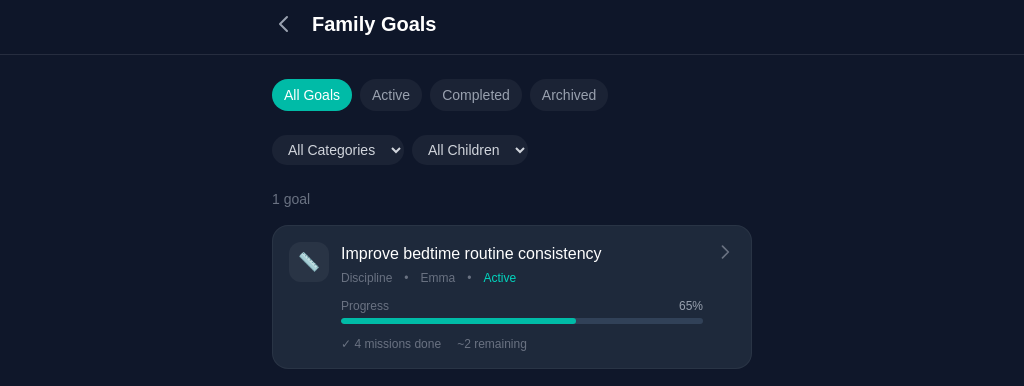
Scenario: Family Section › GoalsPage - Goals Overview › filtering works › shows "Clear filters" when no results match filters
Click on "Completed" filter
Click the button "Completed" at {"x": 476, "y": 95}, box [430,79,522,111]
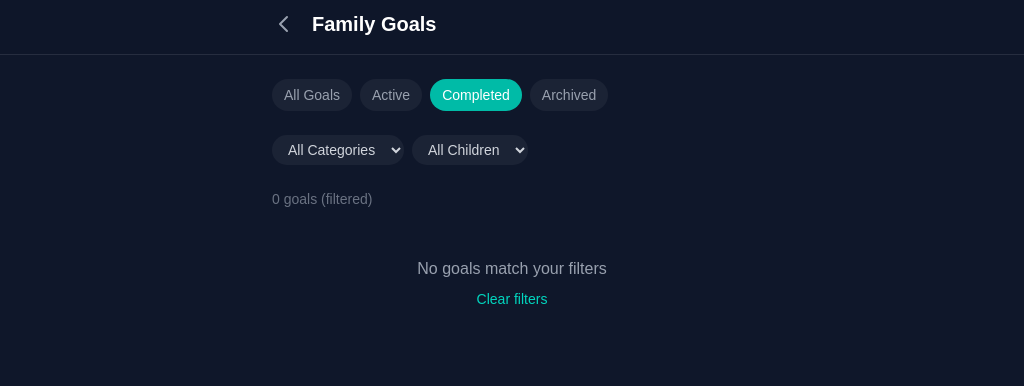
Check: the text "No goals match your filters" is shown, box [417,260,607,277]
Check: the button "Clear filters" is shown, box [477,289,547,309]
